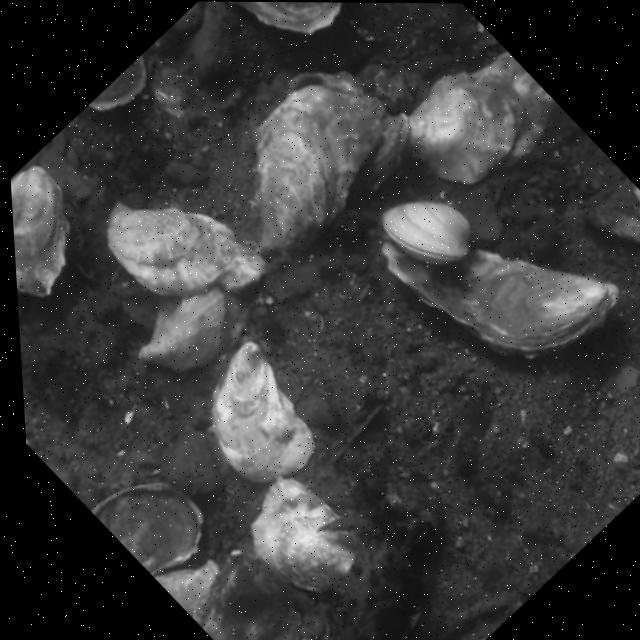Oyster-Closed: (92, 483, 203, 575), (87, 54, 147, 112)
Oyster-Indeterminate: (383, 239, 618, 355), (254, 86, 386, 249), (104, 202, 268, 295), (210, 343, 314, 483), (252, 477, 359, 595), (406, 74, 518, 183), (469, 51, 553, 167), (193, 549, 299, 640), (140, 287, 249, 368), (11, 165, 64, 296), (353, 112, 407, 194), (156, 561, 225, 624), (236, 2, 343, 34)
